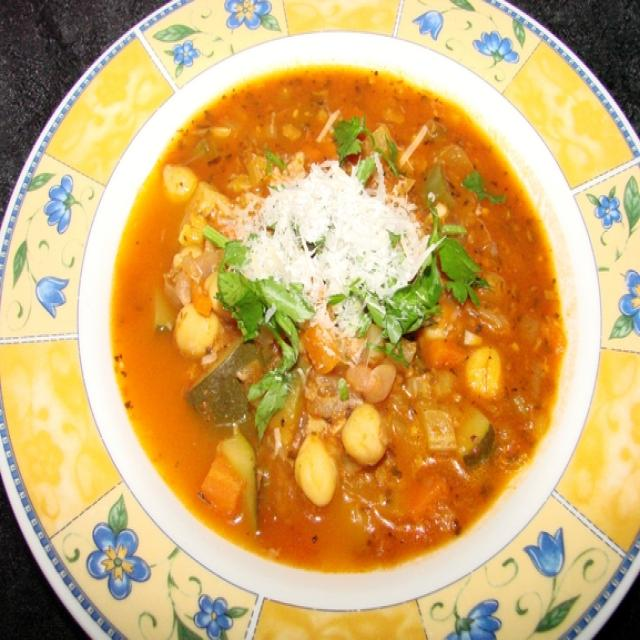汤锅炖物: (23, 18, 621, 618)
